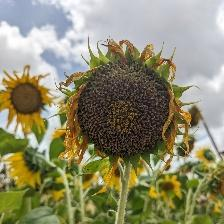sunflower: (55, 35, 208, 192)
